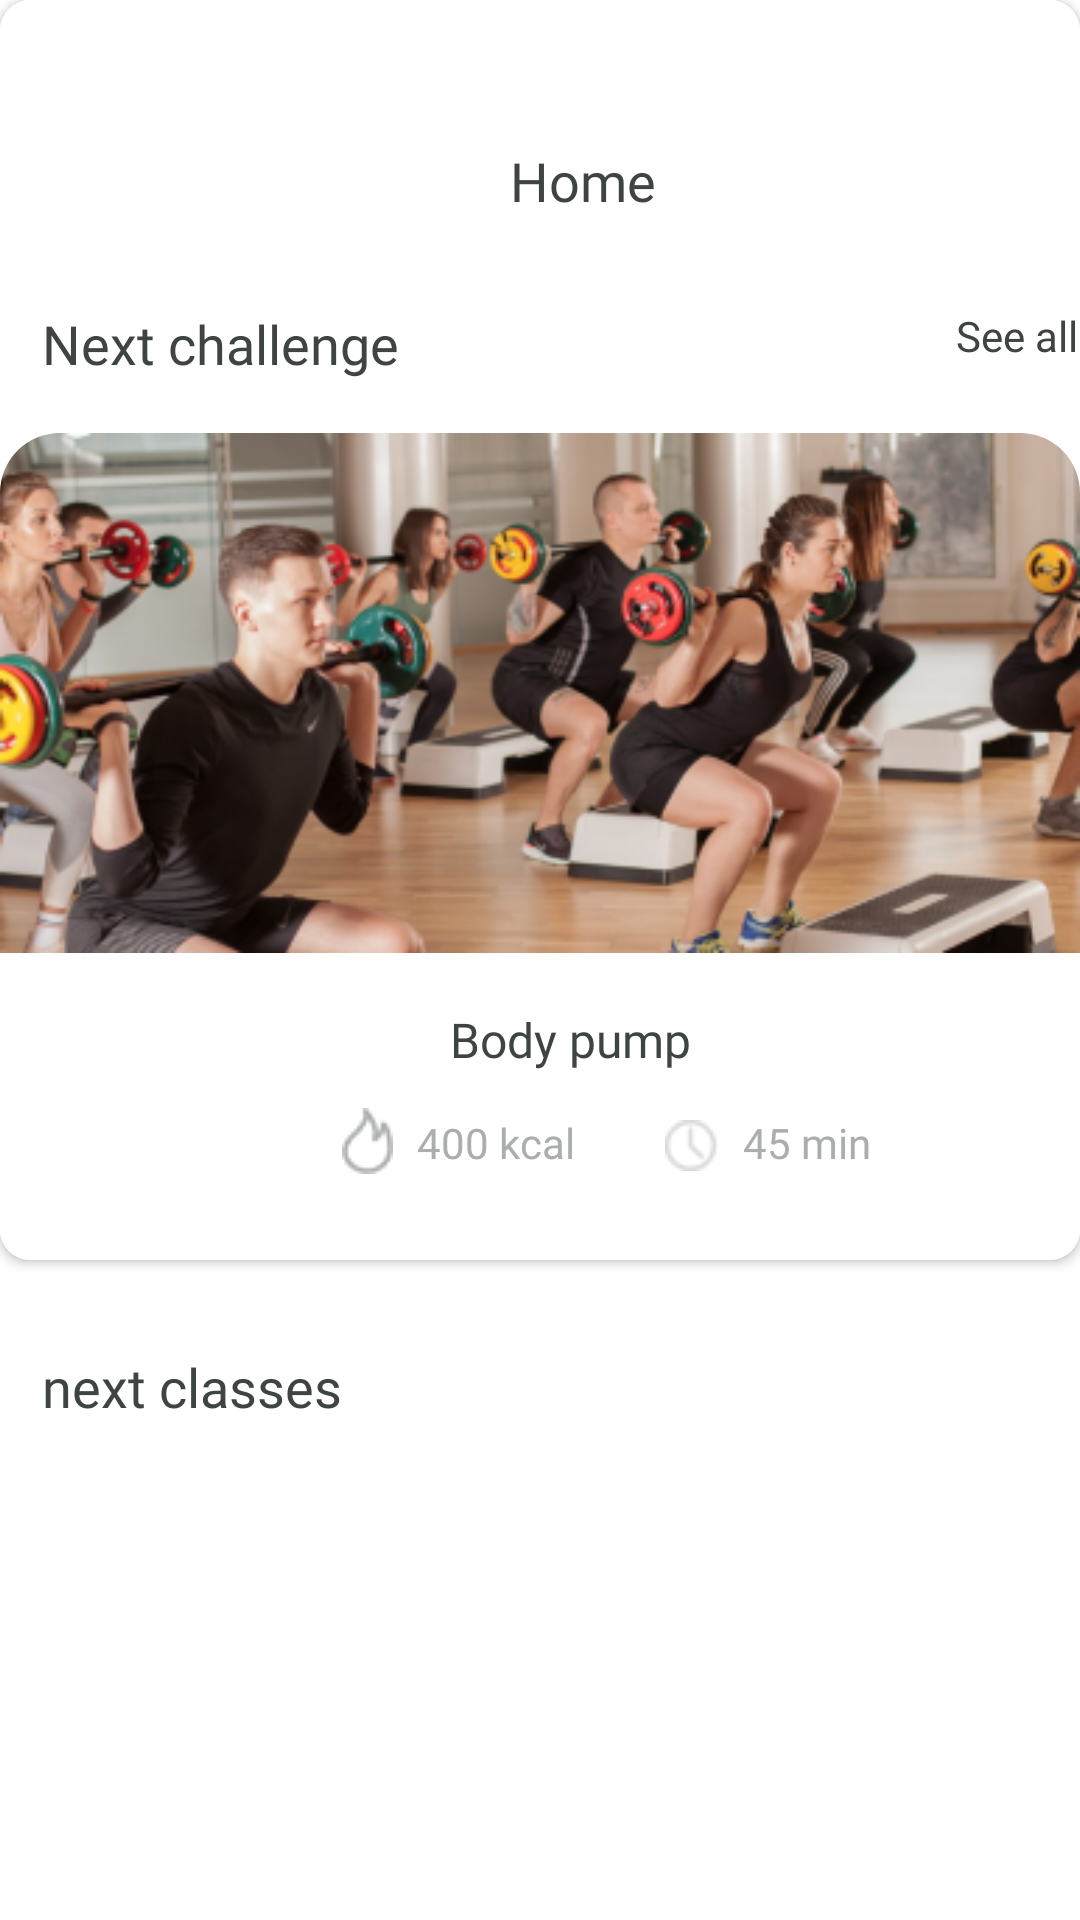

Icon click points for this 1080w x 1920h phone screenshot, format (x=x, y=y):
time: (x=690, y=1145)
